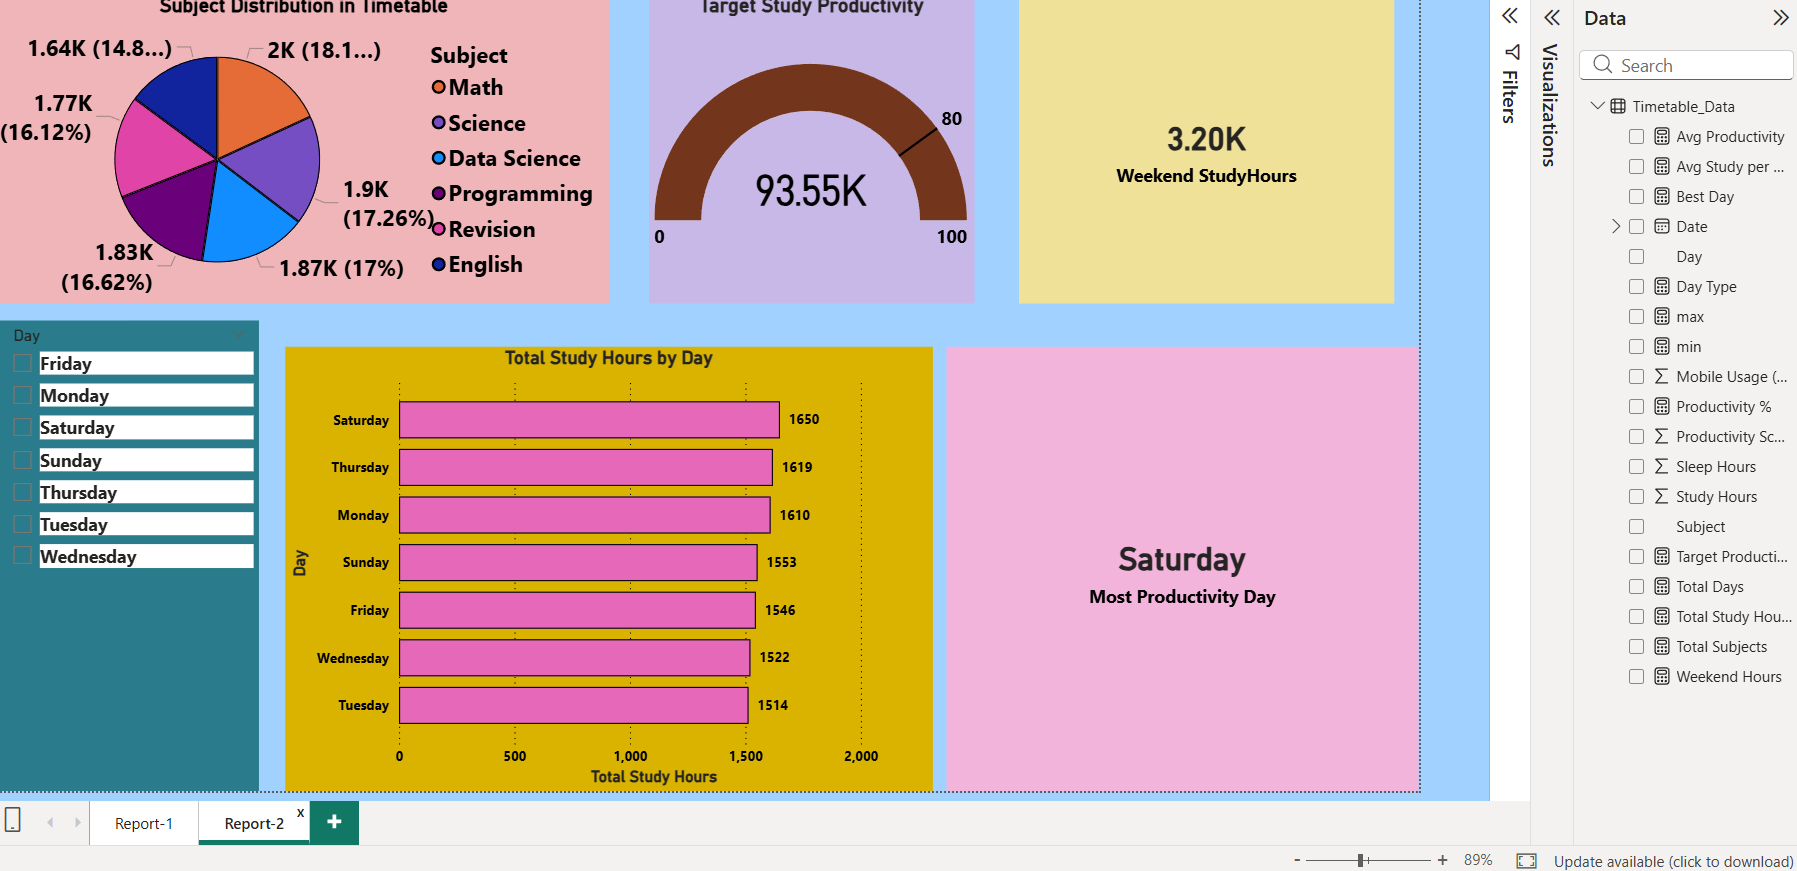

What the dashboard file says about the page in this screenshot:
{"tool":"powerbi","page":{"name":"Report-2","canvas":[1280,720],"ordinal":1},"visuals":[{"type":"pieChart","title":"Subject Distribution in Timetable","fields":{"Y":["Timetable_Data.Total Study Hours"],"Category":["Timetable_Data.Subject"]},"box":[0,0,550,280],"z":0},{"type":"slicer","fields":{"Values":["Timetable_Data.Day"]},"box":[0,295,234.6,425.4],"z":1000},{"type":"clusteredBarChart","fields":{"Category":["Timetable_Data.Day"],"Y":["Timetable_Data.Total Study Hours"]},"box":[258.1,318.6,583.7,401.2],"z":2000},{"type":"card","fields":{"Values":["Timetable_Data.Weekend Hours"]},"box":[919.8,0,338.4,280.2],"z":3000},{"type":"card","fields":{"Values":["Timetable_Data.Best Day"]},"box":[854.4,318.9,425.6,401.1],"z":4000},{"type":"gauge","title":"Target Study Productivity","fields":{"MinValue":["Timetable_Data.min"],"MaxValue":["Timetable_Data.max"],"Y":["Sum(Timetable_Data.Productivity Score)"],"TargetValue":["Timetable_Data.Target Productivity"]},"box":[585.6,0,293.3,280],"z":5000}]}

Visuals, with their boxes on the page's 1280x720 design canvas (x1, y1, x2, y2). These are canvas units, not pixel positions in the 1797x871 screenshot, which may show the page scaled, cropped or inside an application window:
"Subject Distribution in Timetable" pieChart: pyautogui.locateOnScreen(0, 0, 550, 280)
slicer - Timetable_Data.Day: pyautogui.locateOnScreen(0, 295, 235, 720)
clusteredBarChart - Timetable_Data.Day x Timetable_Data.Total Study Hours: pyautogui.locateOnScreen(258, 319, 842, 720)
card - Timetable_Data.Weekend Hours: pyautogui.locateOnScreen(920, 0, 1258, 280)
card - Timetable_Data.Best Day: pyautogui.locateOnScreen(854, 319, 1280, 720)
"Target Study Productivity" gauge: pyautogui.locateOnScreen(586, 0, 879, 280)
